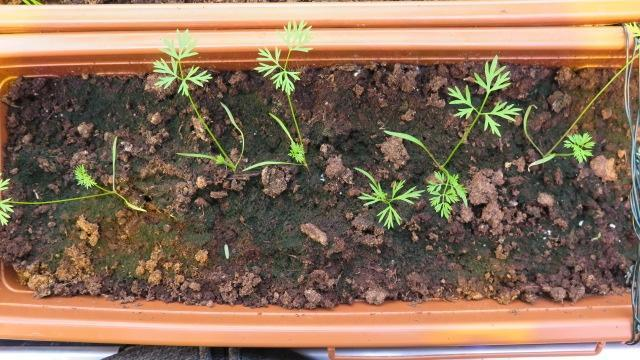crop: (347, 165, 425, 229)
